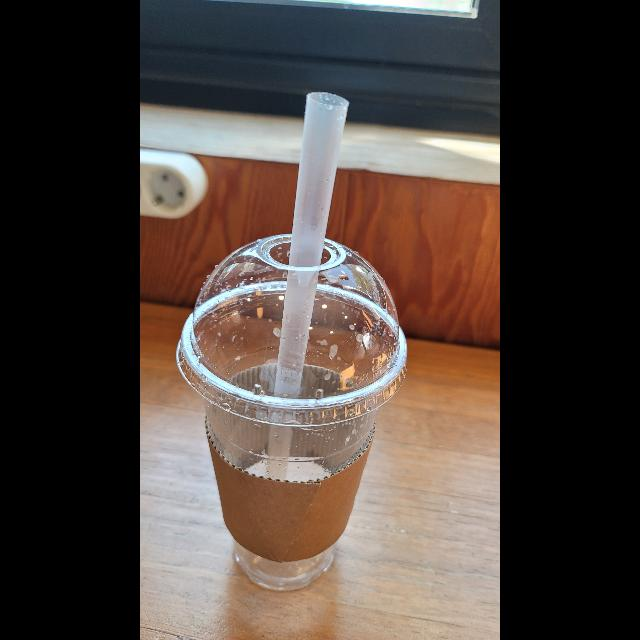plastic_cup: (176, 233, 408, 592)
plastic_cup_lid: (176, 232, 407, 428)
straw: (267, 100, 349, 472)
